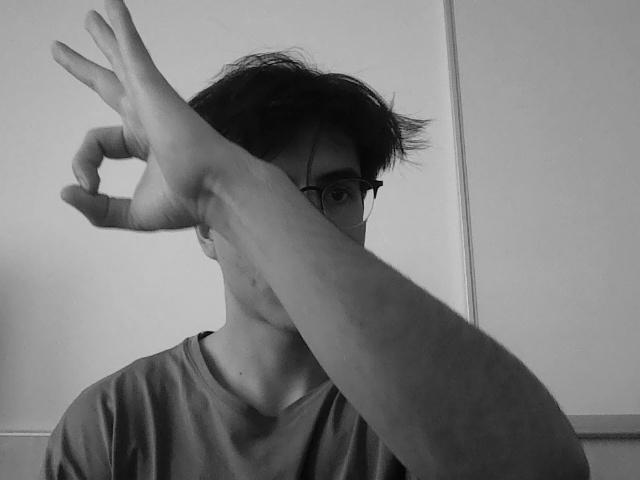OK: (41, 0, 248, 238)
